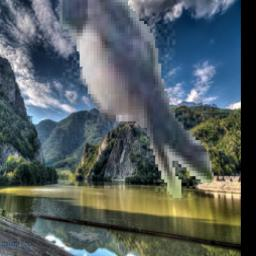Swallow: (60, 0, 215, 201)
